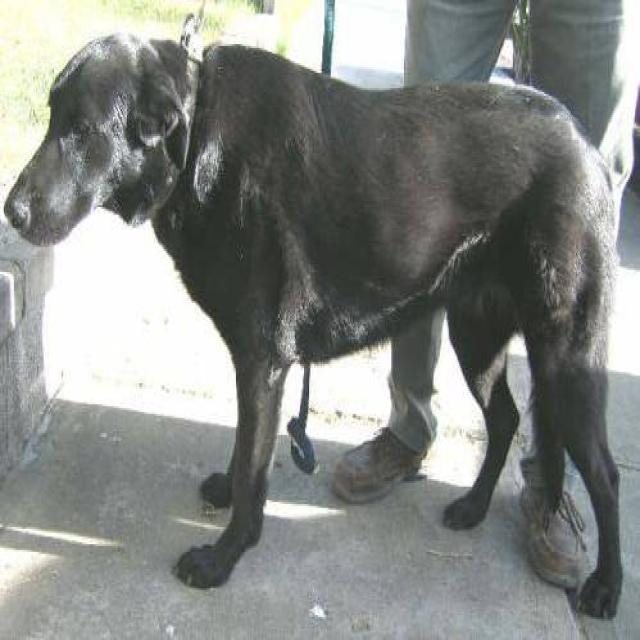dog: (2, 6, 624, 617)
